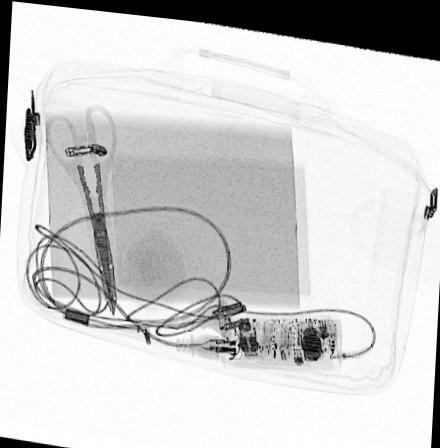Scissors: (45, 100, 117, 317)
